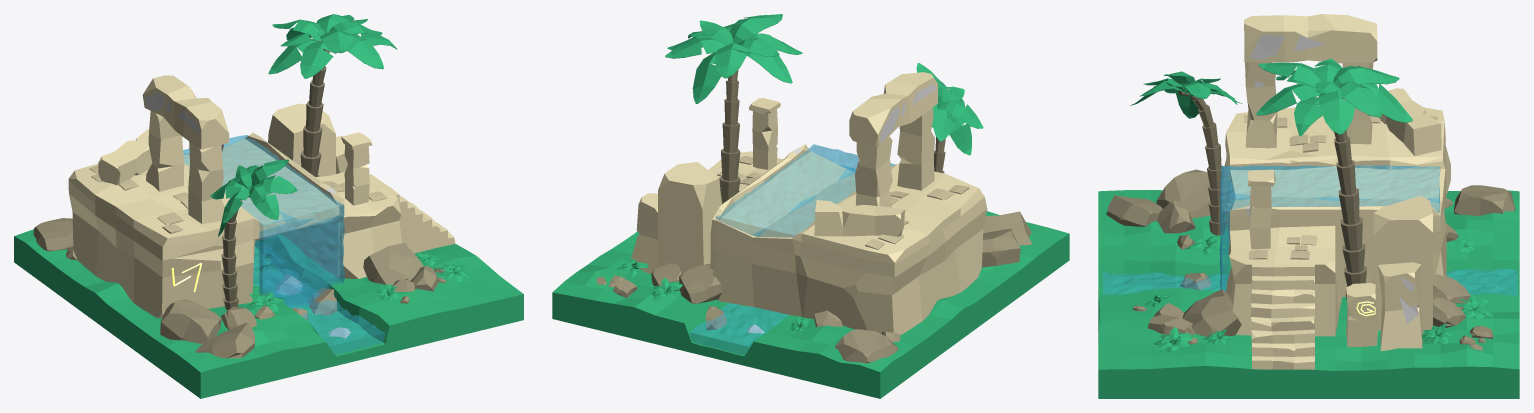
Rendered from AncientRuinsThreeJS.glb.
3 renders of one model, left to right at view 1: azimuth 30°, elevation 25°; view 2: azimuth 150°, elevation 25°; view 3: azimuth 270°, elevation 25°, orthographic. The views are drawn at different scales.
Visible parts, largest first — view 1: Ground, Ruin, Water.001, Pillar.004, Water, Ruin.001, Pillar.002, Pillar.003, Rock, Stairs, Pillar, Rock.003 (+16 smaller); view 2: Ruin, Ground, Water.001, Ruin.001, Pillar.004, Water, Pillar, Pillar.002, Pillar.003, Palm, Pillar.001, Ruin.002 (+16 smaller); view 3: Ground, Ruin, Water.001, Stairs, Pillar.004, Ruin.001, Water, Ruin.002, Palm, Pillar.002, Pillar, Palm.001 (+21 smaller).
Boxes of the visible parts, <box> form: Ground: <box>14,229,523,398</box>; Ruin: <box>68,132,401,318</box>; Water.001: <box>183,135,344,308</box>; Pillar.004: <box>142,75,229,149</box>; Water: <box>253,240,385,354</box>; Ruin.001: <box>268,103,335,176</box>; Pillar.002: <box>188,141,224,223</box>; Pillar.003: <box>146,111,183,191</box>; Rock: <box>160,299,221,343</box>; Stairs: <box>369,174,455,253</box>; Pillar: <box>98,129,152,185</box>; Rock.003: <box>363,242,423,284</box>; Ruin: <box>710,144,987,335</box>; Ground: <box>552,211,1069,398</box>; Water.001: <box>716,144,895,237</box>; Ruin.001: <box>658,162,722,273</box>; Pillar.004: <box>849,72,937,146</box>; Water: <box>689,303,788,355</box>; Pillar: <box>814,200,904,236</box>; Pillar.002: <box>897,108,935,190</box>; Pillar.003: <box>855,136,892,207</box>; Palm: <box>719,70,740,203</box>; Pillar.001: <box>749,98,780,169</box>; Ruin.002: <box>630,193,658,273</box>; Ground: <box>1098,190,1519,398</box>; Ruin: <box>1223,107,1450,336</box>; Water.001: <box>1219,165,1440,291</box>; Stairs: <box>1251,264,1314,369</box>; Pillar.004: <box>1244,14,1377,63</box>; Ruin.001: <box>1373,196,1432,332</box>; Water: <box>1103,269,1517,295</box>; Ruin.002: <box>1378,262,1422,350</box>; Palm: <box>1334,130,1366,299</box>; Pillar.002: <box>1245,62,1277,148</box>; Pillar: <box>1379,88,1441,155</box>; Palm.001: <box>1178,90,1225,235</box>.
Bounding box in the file's own units: 8.02 × 6.61 × 8.
